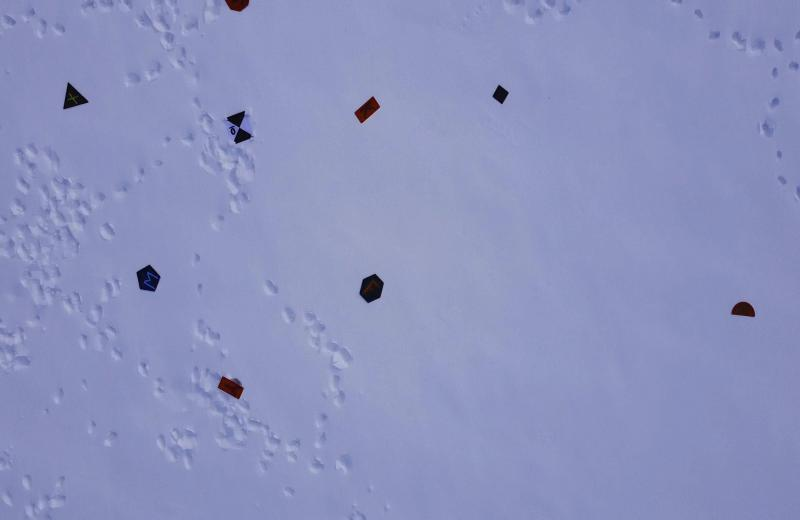Hexagon: (355, 268, 386, 306)
Octagon: (222, 0, 253, 14)
Pentagon: (130, 262, 165, 296)
Rectangle: (349, 94, 384, 126), (216, 372, 249, 405)
Semi Circle: (728, 298, 757, 322)
Square: (488, 83, 513, 107)
Triangle: (60, 80, 89, 113)
